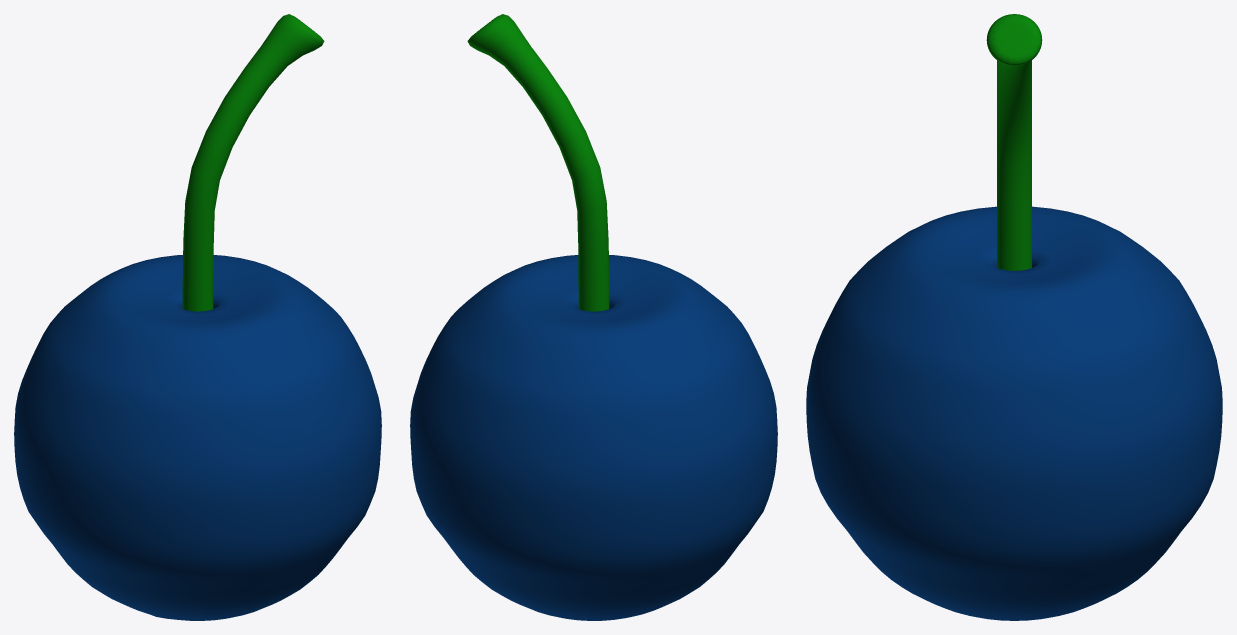
File: bluecherry.fbx
3 renders of one model, left to right at view 1: azimuth 30°, elevation 25°; view 2: azimuth 150°, elevation 25°; view 3: azimuth 270°, elevation 25°, orthographic. The views are drawn at different scales.
Parts seen in each view (by area): view 1: pSphere1; view 2: pSphere1; view 3: pSphere1.
Part boxes in pixels (left/top/right/bottom): pSphere1: left=14, top=14, right=381, bottom=620; pSphere1: left=410, top=14, right=777, bottom=620; pSphere1: left=806, top=14, right=1222, bottom=620.
Size of the model in its own units: 1.98 by 3.32 by 1.98.
